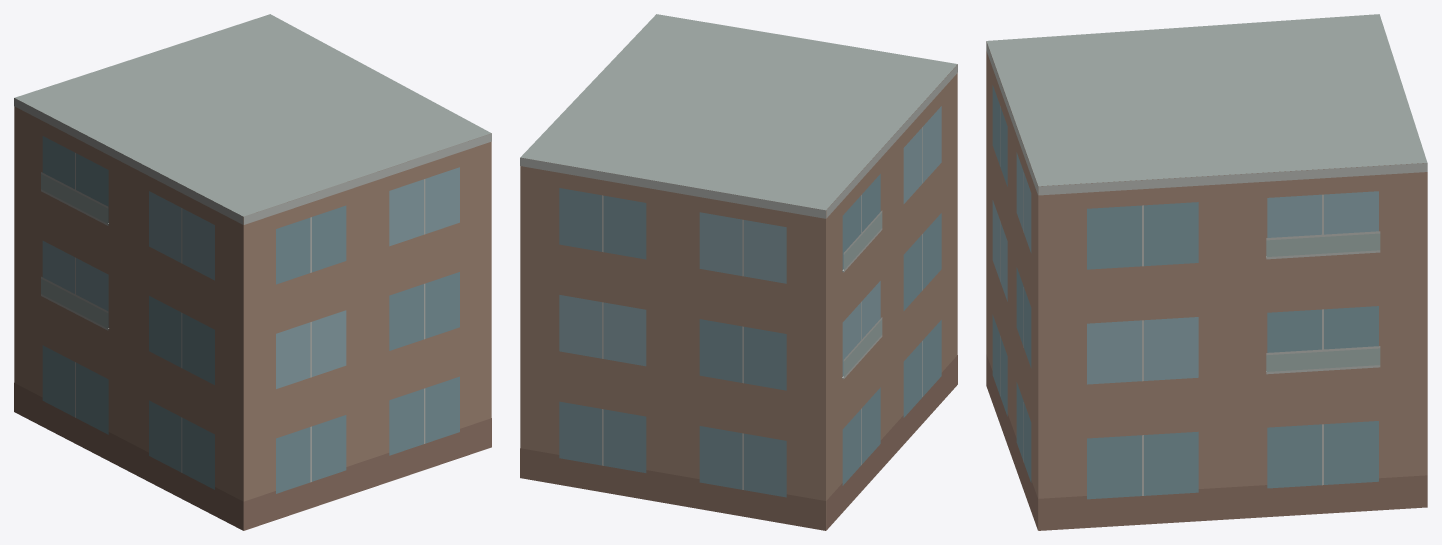
File: survey-upis-33033540.glb
3 renders of one model, left to right at view 1: azimuth 30°, elevation 25°; view 2: azimuth 150°, elevation 25°; view 3: azimuth 270°, elevation 25°, orthographic. The views are drawn at different scales.
Parts seen in each view (by area): view 1: survey-upis-33033540.tmp; view 2: survey-upis-33033540.tmp; view 3: survey-upis-33033540.tmp.
Part boxes in pixels (box(x1,y1,x2,y2)): survey-upis-33033540.tmp: box(14, 14, 491, 530); survey-upis-33033540.tmp: box(520, 14, 957, 530); survey-upis-33033540.tmp: box(986, 14, 1427, 530).
Size of the model in its own units: 9.82 by 9.15 by 10.63.
